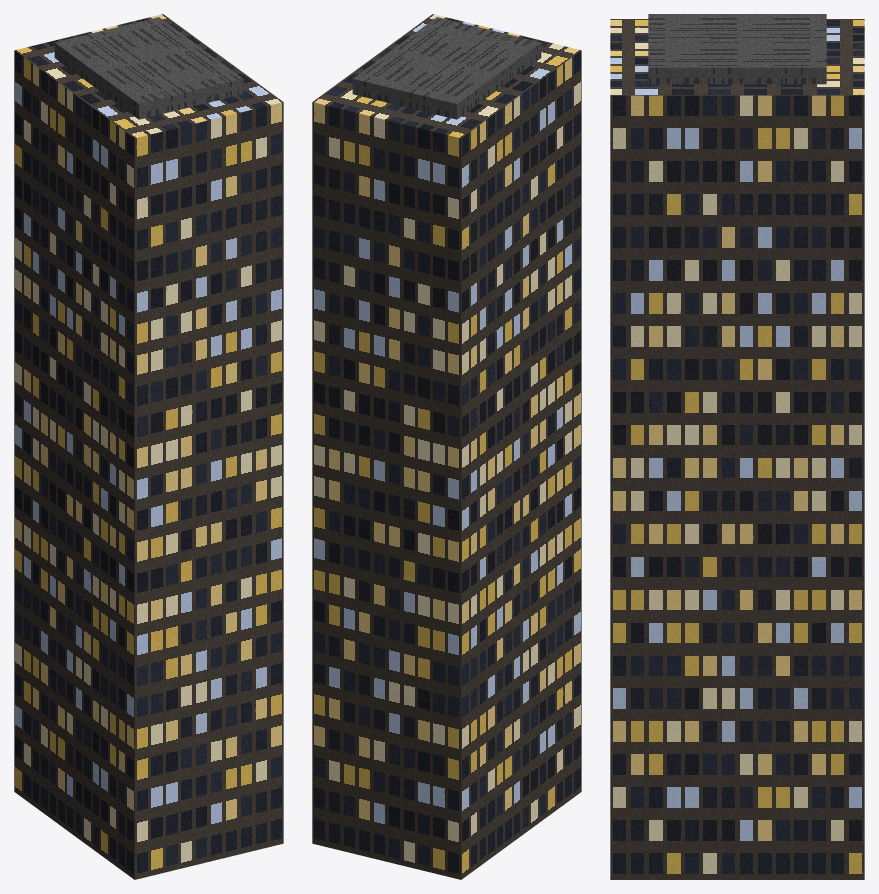
The model's file is env_highrise_b.glb.
The picture shows the model from 3 angles, left to right: view 1: azimuth 30°, elevation 25°; view 2: azimuth 150°, elevation 25°; view 3: azimuth 270°, elevation 25°; orthographic projection. The views are drawn at different scales.
Parts seen in each view (by area): view 1: env_highrise_b; view 2: env_highrise_b; view 3: env_highrise_b.
Boxes of the visible parts, x1=… form: env_highrise_b: x1=14, y1=14, x2=283, y2=879; env_highrise_b: x1=312, y1=14, x2=581, y2=879; env_highrise_b: x1=610, y1=14, x2=864, y2=879.
Bounding box in the file's own units: 10 × 48.6 × 14.
2 materials, 2 textured.
